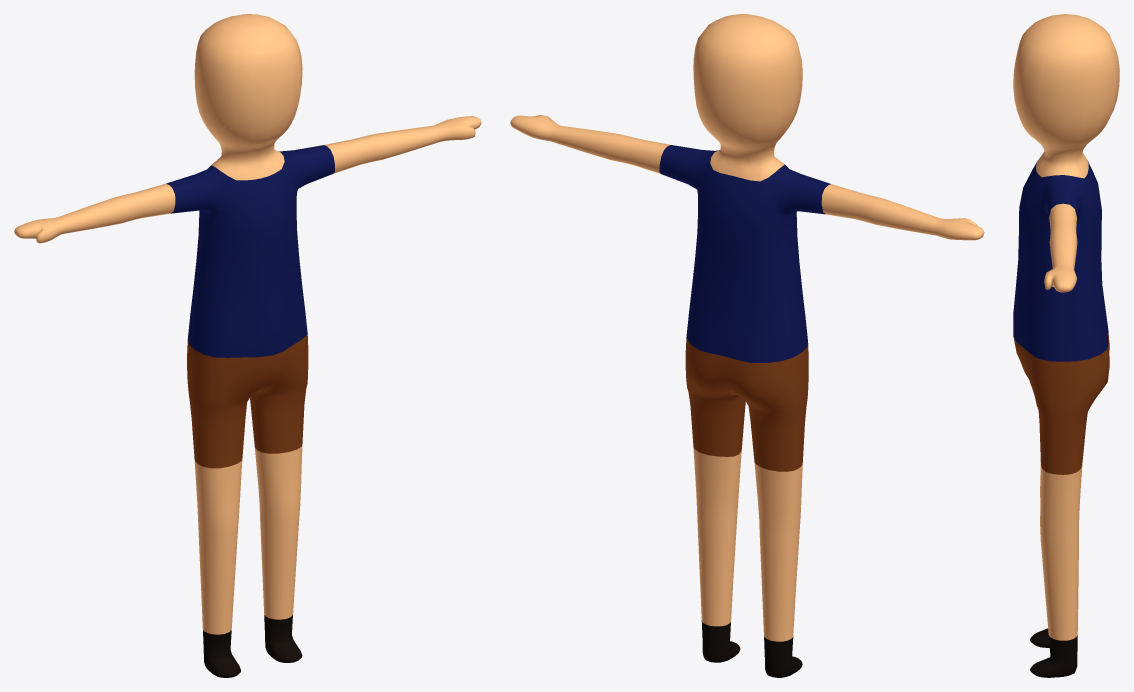
File: chartest12.fbx
3 views of the same model, side by side, from view 1: azimuth 30°, elevation 25°; view 2: azimuth 150°, elevation 25°; view 3: azimuth 270°, elevation 25° (orthographic).
Visible parts, largest first — view 1: Box006; view 2: Box006; view 3: Box006.
Boxes of the visible parts, <box> form: Box006: <box>14,14,481,677</box>; Box006: <box>510,14,984,677</box>; Box006: <box>1013,14,1119,677</box>.
Size of the model in its own units: 71.04 by 14.19 by 93.39.
